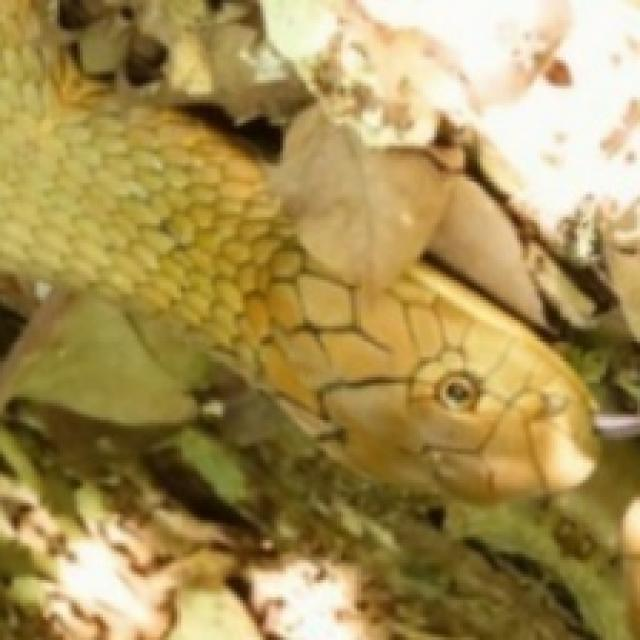king cobra: (0, 0, 611, 500)
